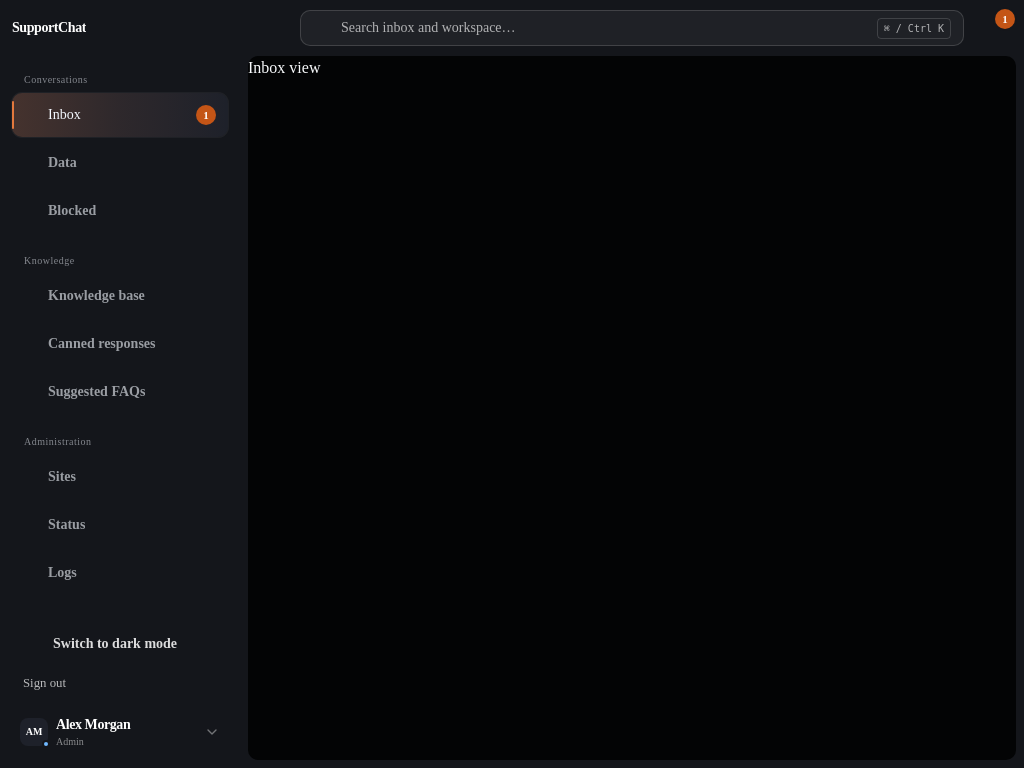
Test: the sidebar Inbox count shares read state with the notification bell
The image size is (1024, 768).
Expected: the link with aria-label "Inbox, 1 unread" shows "1", [12, 93, 228, 137]
Click the button named "Notifications, 1 unread": (994, 28) [972, 6, 1016, 50]
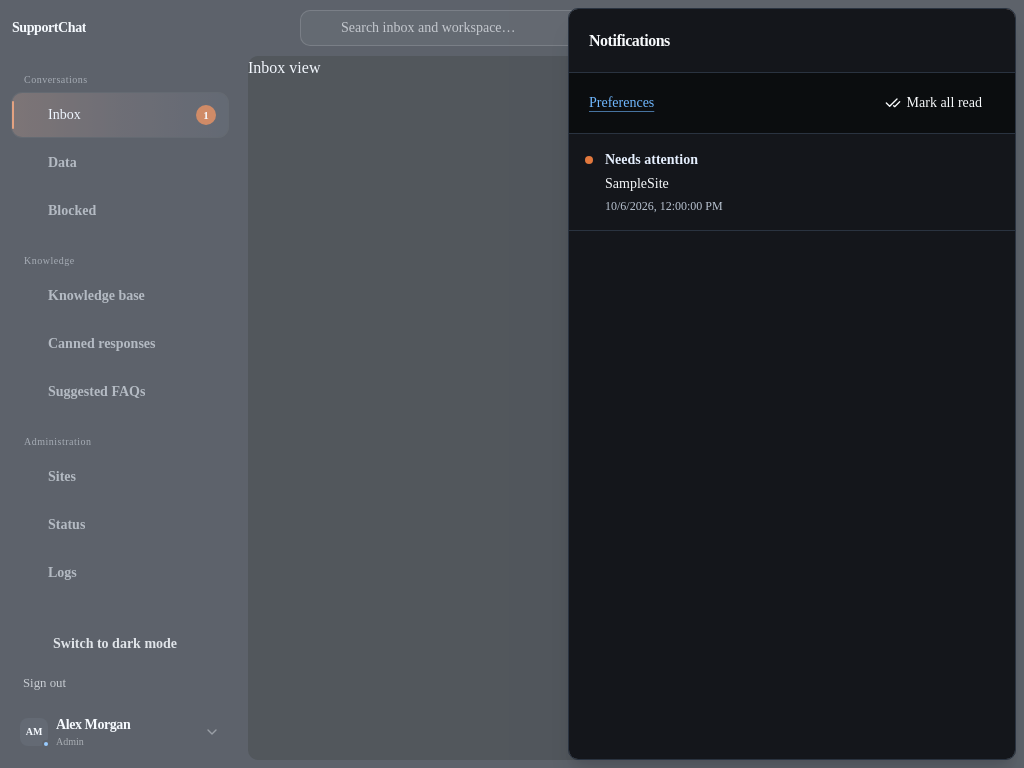
Click the button "Mark all read": (933, 103) [872, 81, 995, 125]
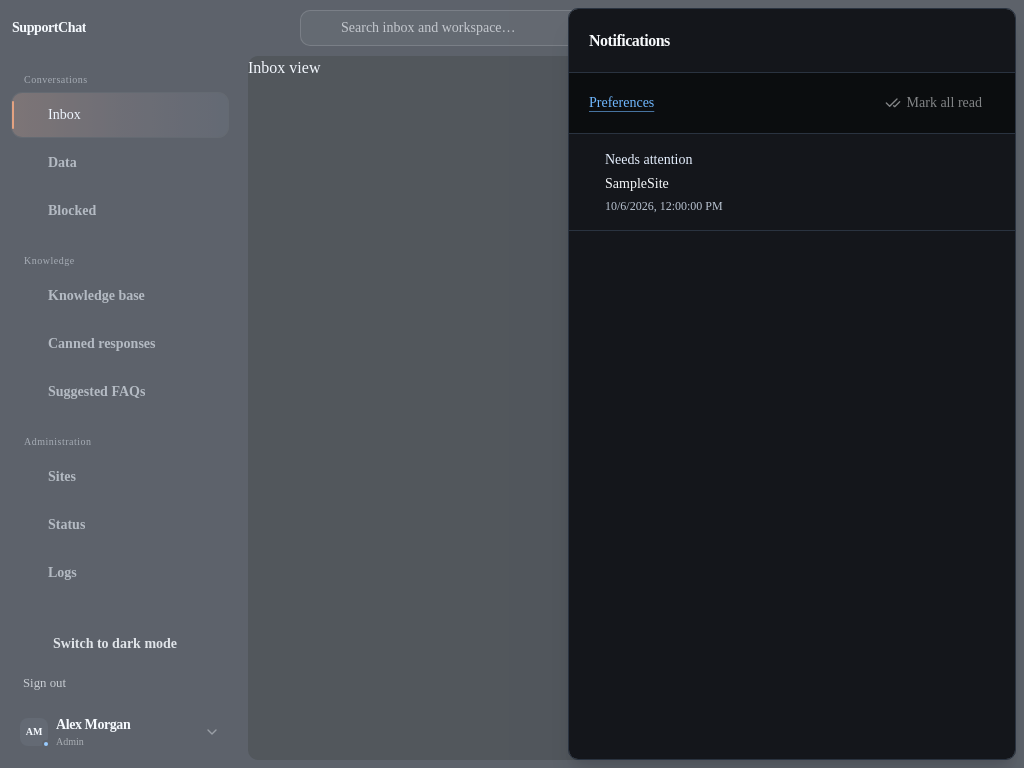
Expected: the link named "Inbox, 1 unread" does not show "1", [12, 93, 228, 137]
Now the link named "Inbox, 1 unread" reads "Inbox", box [12, 93, 228, 137]
